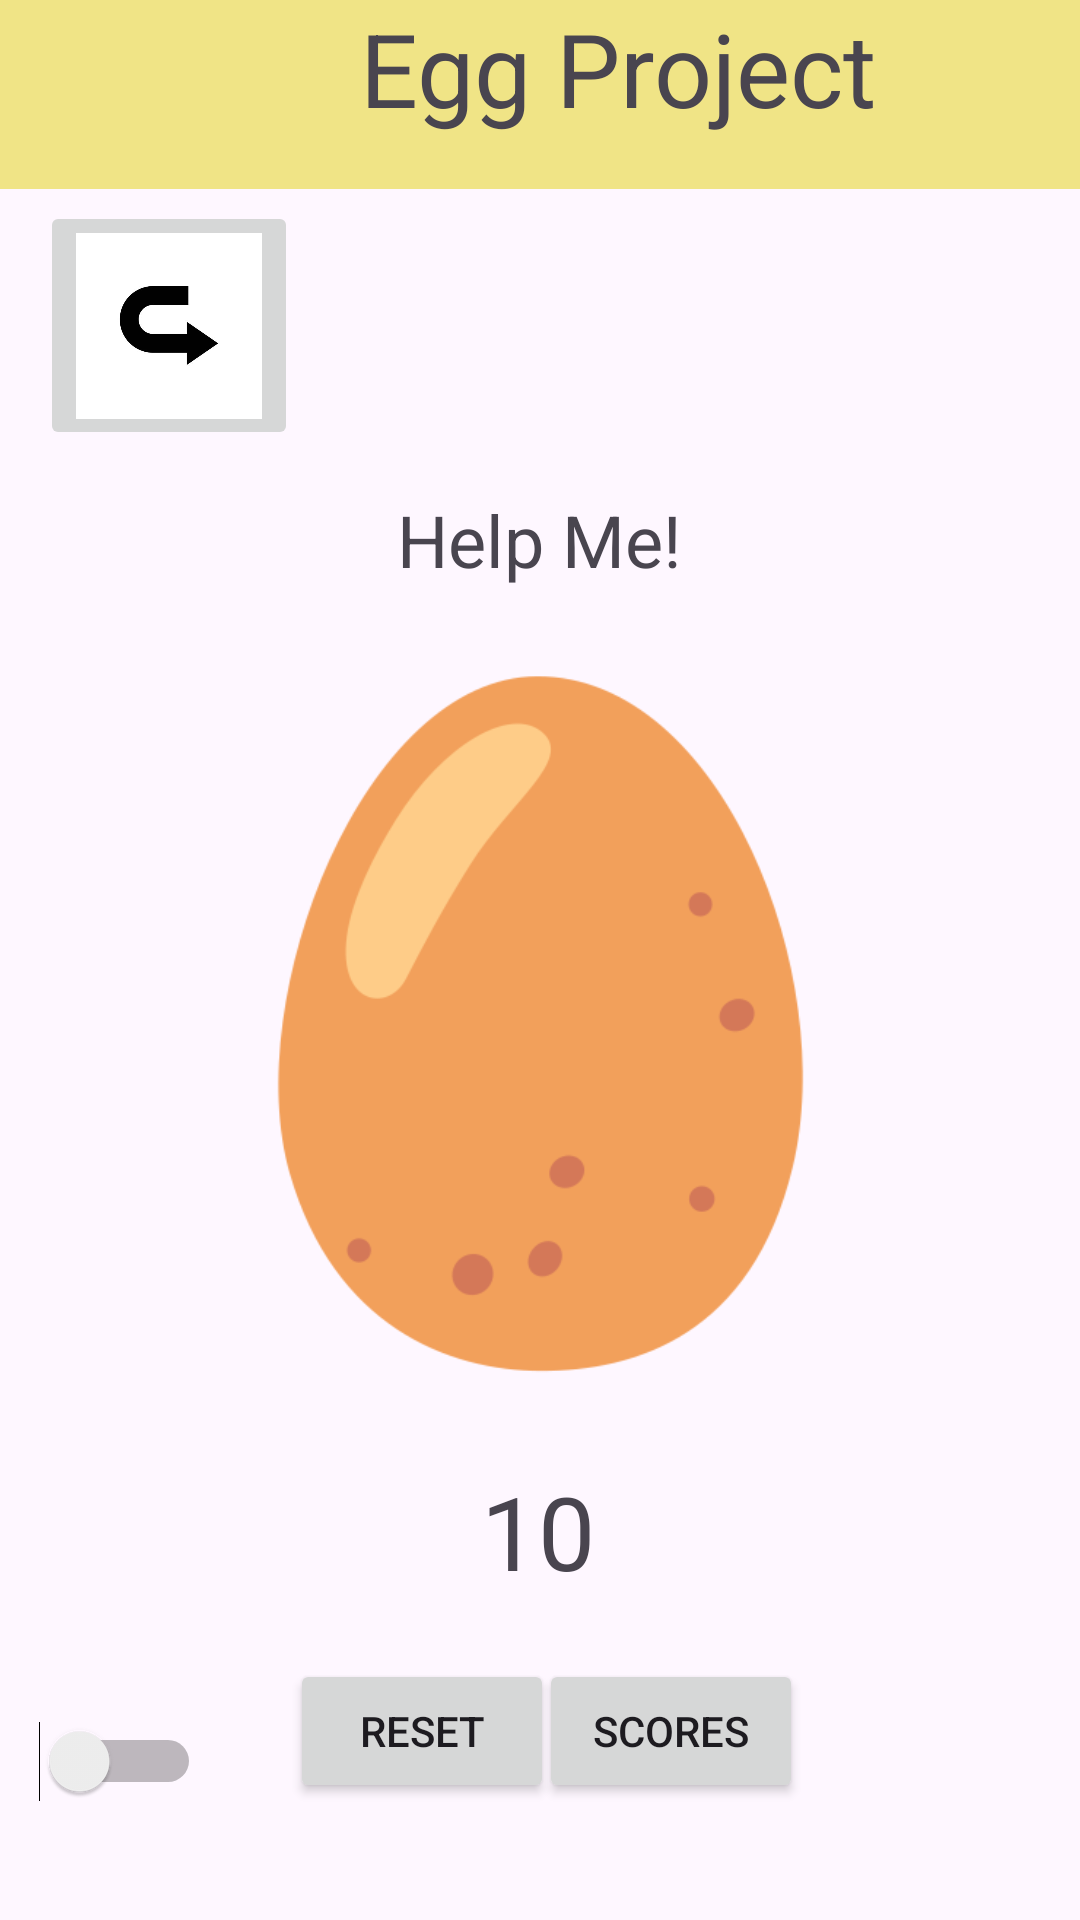

Icons on this 1080w x 1920h Android screen, each with the point to tap as (x=x, y=y):
arrow: (x=169, y=325)
